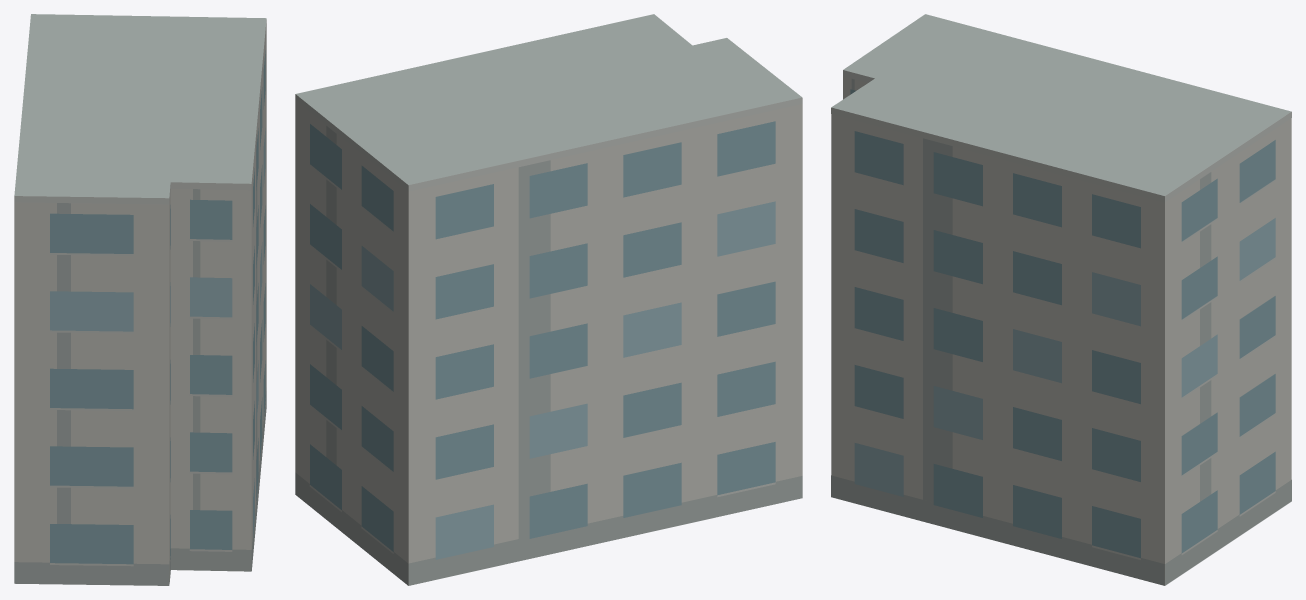
Rendered from survey-upis-32514930.glb.
3 views of the same model, side by side, from view 1: azimuth 30°, elevation 25°; view 2: azimuth 150°, elevation 25°; view 3: azimuth 270°, elevation 25° (orthographic). The views are drawn at different scales.
Parts seen in each view (by area): view 1: survey-upis-32514930.tmp; view 2: survey-upis-32514930.tmp; view 3: survey-upis-32514930.tmp.
Part boxes in pixels (x1,y1,x2,y2): survey-upis-32514930.tmp: (14,14,266,585); survey-upis-32514930.tmp: (295,14,802,585); survey-upis-32514930.tmp: (831,14,1291,585).
Bounding box in the file's own units: 14.85 × 14.8 × 15.87.
